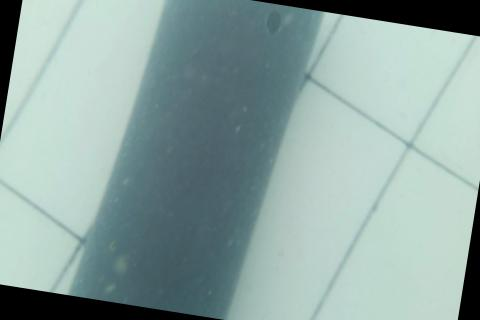kebocoran: (263, 6, 287, 41)
